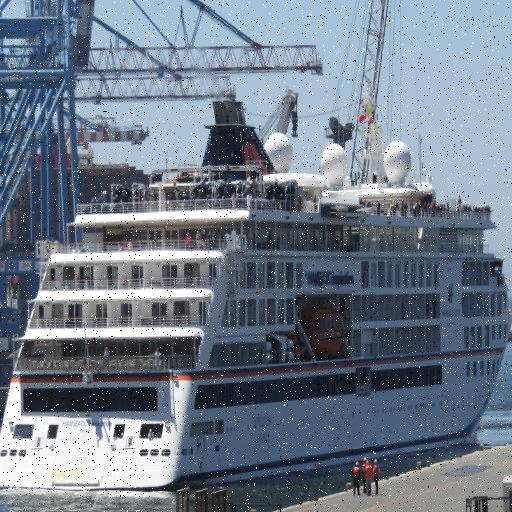cruises: (1, 100, 512, 481)
